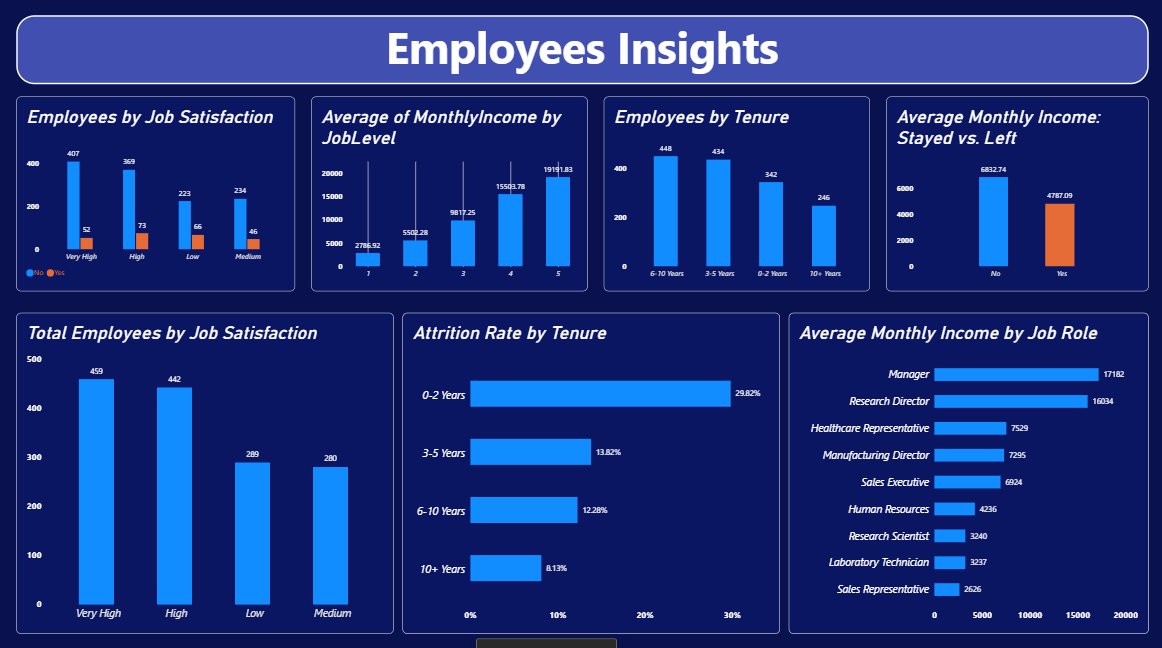

This screenshot's page, from the dashboard's own definition file:
{"tool":"powerbi","page":{"name":"Employee_Insights","canvas":[1920,1080],"ordinal":2},"visuals":[{"type":"clusteredBarChart","title":"Average Monthly Income by Job Role","fields":{"Category":["HR.JobRole"],"Y":["Avg(HR.MonthlyIncome)"]},"box":[1298.8,516.6,592.8,529],"z":0},{"type":"clusteredColumnChart","title":"Total Employees by Job Satisfaction","fields":{"Category":["HR.Job Satisfaction Label"],"Y":["CountNonNull(HR.EmployeeNumber)"]},"box":[26.8,516.6,621.6,529],"z":1000},{"type":"clusteredColumnChart","title":"Employees by Job Satisfaction","fields":{"Category":["HR.Job Satisfaction Label"],"Series":["HR.Attrition"],"Y":["CountNonNull(HR.EmployeeNumber)"]},"box":[26.8,160.5,459,321.1],"z":2000},{"type":"clusteredColumnChart","title":"Average Monthly Income: Stayed vs. Left","fields":{"Category":["HR.Attrition"],"Y":["Avg(HR.MonthlyIncome)"]},"box":[1459.4,160.5,432.2,321.1],"z":3000},{"type":"clusteredColumnChart","title":"Employees by Tenure","fields":{"Category":["HR.Tenure Group"],"Y":["CountNonNull(HR.EmployeeNumber)"]},"box":[994.2,160.5,438.4,321.1],"z":4000},{"type":"clusteredBarChart","title":"Attrition Rate by Tenure","fields":{"Category":["HR.Tenure Group"],"Y":["HR.Attrition rate"]},"box":[662.8,516.6,621.6,529],"z":5000},{"type":"clusteredColumnChart","title":"Average of MonthlyIncome by JobLevel","fields":{"Category":["HR.JobLevel"],"Y":["Avg(HR.MonthlyIncome)"]},"box":[512.5,160.5,454.9,321.1],"z":5001},{"type":"textbox","box":[26.8,26.8,1864.8,113.2],"z":5002}]}

Visuals, with their boxes in screenshot pixels (x1, y1, x2, y2), scaled from the page's 1920x1080 canvas onto the 1162x648 screenshot:
"Average Monthly Income by Job Role" clusteredBarChart: l=786, t=310, r=1145, b=627
"Total Employees by Job Satisfaction" clusteredColumnChart: l=16, t=310, r=392, b=627
"Employees by Job Satisfaction" clusteredColumnChart: l=16, t=96, r=294, b=289
"Average Monthly Income: Stayed vs. Left" clusteredColumnChart: l=883, t=96, r=1145, b=289
"Employees by Tenure" clusteredColumnChart: l=602, t=96, r=867, b=289
"Attrition Rate by Tenure" clusteredBarChart: l=401, t=310, r=777, b=627
"Average of MonthlyIncome by JobLevel" clusteredColumnChart: l=310, t=96, r=585, b=289
textbox: l=16, t=16, r=1145, b=84
